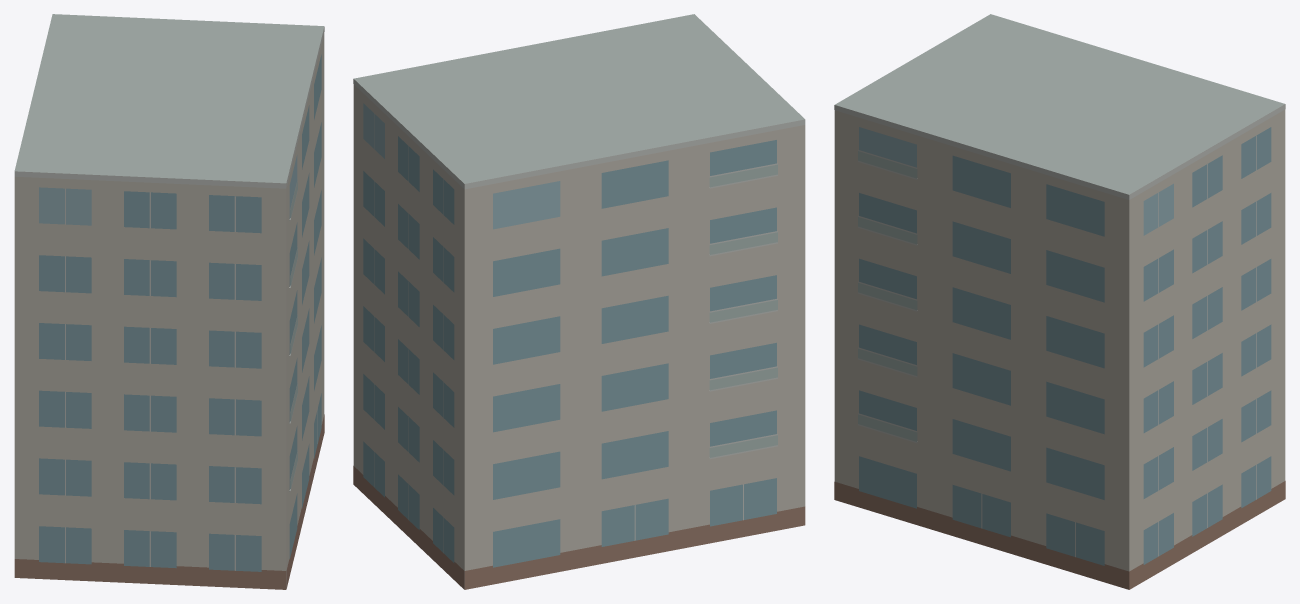
Rendered from survey-upis-32955440.glb.
The picture shows the model from 3 angles, left to right: view 1: azimuth 30°, elevation 25°; view 2: azimuth 150°, elevation 25°; view 3: azimuth 270°, elevation 25°; orthographic projection. The views are drawn at different scales.
Parts seen in each view (by area): view 1: survey-upis-32955440.tmp; view 2: survey-upis-32955440.tmp; view 3: survey-upis-32955440.tmp.
Part boxes in pixels (x1,y1,x2,y2): survey-upis-32955440.tmp: (14, 14, 324, 589); survey-upis-32955440.tmp: (353, 14, 805, 589); survey-upis-32955440.tmp: (834, 14, 1285, 589).
Bounding box in the file's own units: 17.97 × 18.3 × 18.94.
